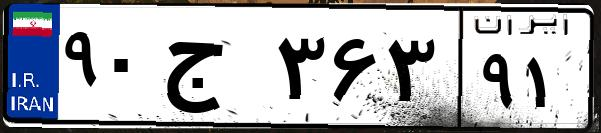0: (110, 28, 158, 98)
1: (525, 38, 570, 115)
3: (270, 28, 330, 110), (385, 28, 445, 110)
6: (330, 28, 385, 110)
9: (57, 26, 110, 100), (475, 38, 525, 113)
ج: (158, 20, 270, 120)
